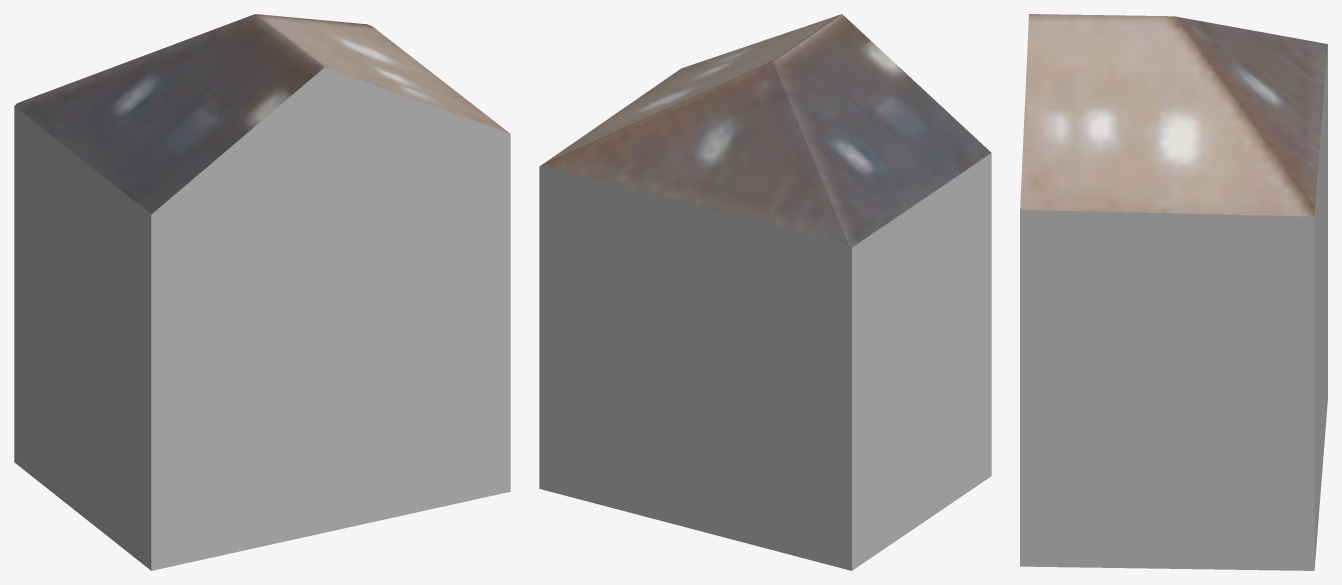
The model's file is DEBW_0010007Tx3B.gltf.
3 renders of one model, left to right at view 1: azimuth 30°, elevation 25°; view 2: azimuth 150°, elevation 25°; view 3: azimuth 270°, elevation 25°, orthographic. The views are drawn at different scales.
Visible parts, largest first — view 1: Z_UP; view 2: Z_UP; view 3: Z_UP.
Boxes of the visible parts, left/top/right/bottom form: Z_UP: left=14, top=14, right=510, bottom=570; Z_UP: left=539, top=14, right=991, bottom=570; Z_UP: left=1020, top=14, right=1327, bottom=570.
Bounding box in the file's own units: 12.76 × 15.77 × 9.48.
Materials: 2 (1 with a texture image).
